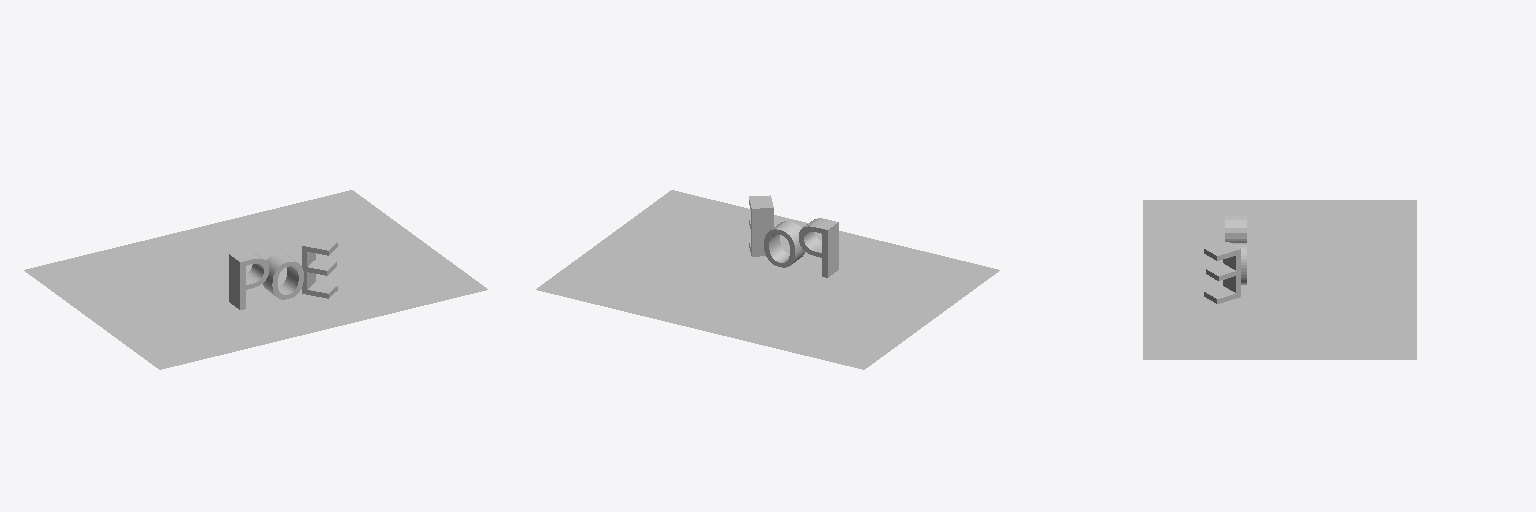
The model's file is Poe.obj.
The picture shows the model from 3 angles: view 1: azimuth 30°, elevation 25°; view 2: azimuth 150°, elevation 25°; view 3: azimuth 270°, elevation 25°; orthographic projection.
Visible parts, largest first — view 1: 003_PoELogo, 000_PoE_-_P, 002_PoE_-_E, 001_PoE_-_o; view 2: 003_PoELogo, 000_PoE_-_P, 001_PoE_-_o, 002_PoE_-_E; view 3: 003_PoELogo, 002_PoE_-_E, 000_PoE_-_P.
Boxes of the visible parts, x1=… form: 003_PoELogo: x1=24, y1=190, x2=487, y2=369; 000_PoE_-_P: x1=229, y1=250, x2=268, y2=309; 002_PoE_-_E: x1=302, y1=237, x2=337, y2=298; 001_PoE_-_o: x1=263, y1=253, x2=303, y2=299; 003_PoELogo: x1=536, y1=190, x2=999, y2=369; 000_PoE_-_P: x1=799, y1=218, x2=838, y2=277; 001_PoE_-_o: x1=764, y1=221, x2=804, y2=267; 002_PoE_-_E: x1=749, y1=195, x2=773, y2=256; 003_PoELogo: x1=1143, y1=200, x2=1416, y2=359; 002_PoE_-_E: x1=1204, y1=242, x2=1240, y2=303; 000_PoE_-_P: x1=1225, y1=211, x2=1246, y2=242.
Size of the model in its own units: 256 by 36.18 by 184.